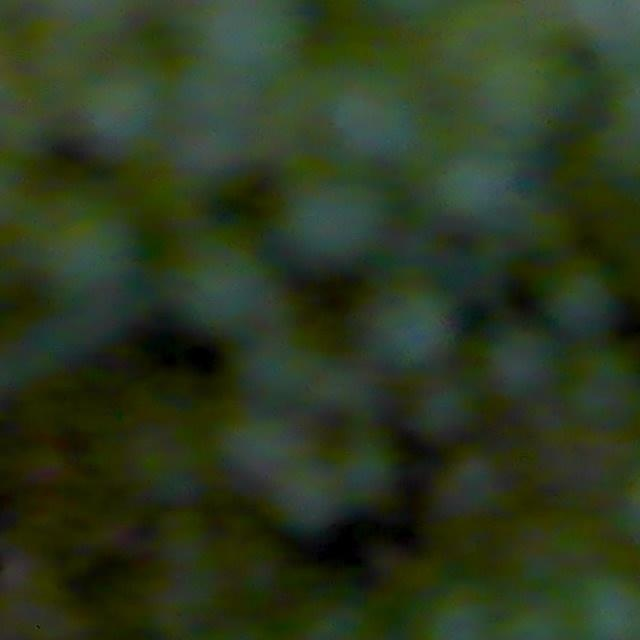SeaGrape: (14, 192, 124, 306), (327, 59, 424, 173), (352, 273, 457, 371), (417, 141, 519, 241), (297, 169, 399, 262), (476, 59, 579, 138), (77, 64, 167, 153), (179, 246, 276, 325), (466, 323, 560, 404), (536, 257, 627, 340), (234, 342, 317, 421), (217, 408, 302, 484), (565, 345, 640, 429), (268, 456, 345, 534), (433, 446, 510, 522), (324, 435, 396, 514), (403, 381, 477, 446), (573, 570, 640, 640), (423, 587, 499, 640)
